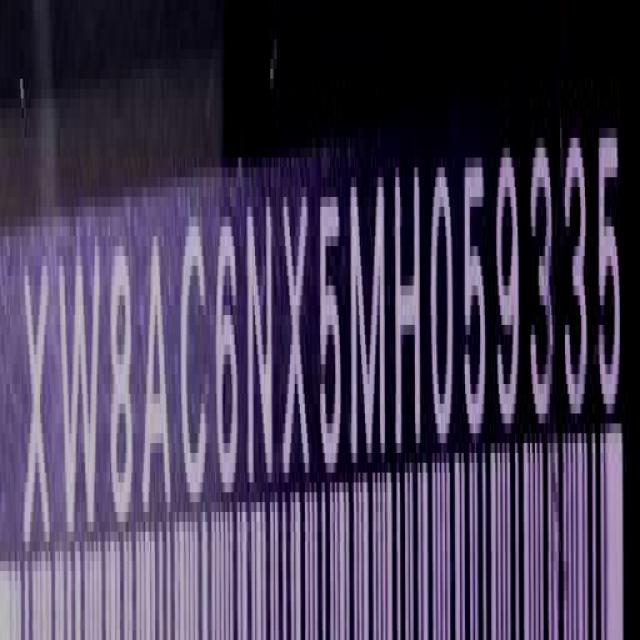0: (430, 157, 456, 456)
3: (528, 137, 556, 437), (562, 128, 589, 432)
5: (599, 118, 625, 424), (318, 180, 344, 483), (465, 150, 489, 450)
6: (214, 202, 242, 505)
8: (110, 233, 137, 534)
9: (496, 146, 523, 443)
A: (143, 224, 173, 524)
C: (181, 215, 211, 511)
H: (396, 162, 424, 468)
M: (351, 172, 387, 472)
N: (247, 193, 275, 496)
W: (58, 236, 100, 551)
X: (22, 247, 52, 567), (284, 180, 314, 490)
